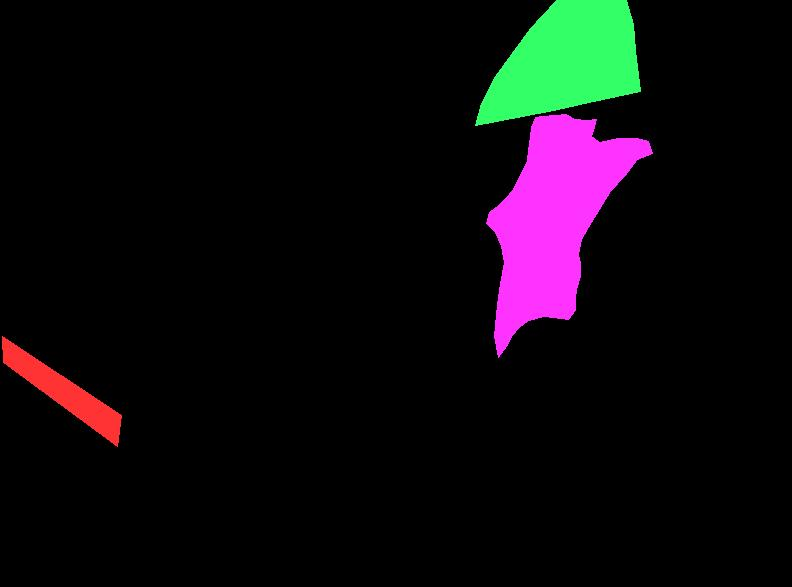Broken part: (475, 0, 640, 125)
Dent: (486, 114, 652, 357)
Missing part: (2, 336, 121, 446)
